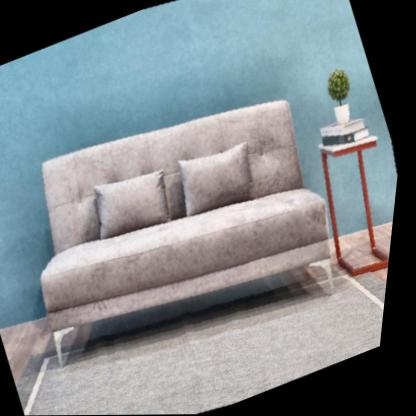Sofa: (12, 71, 360, 368)
